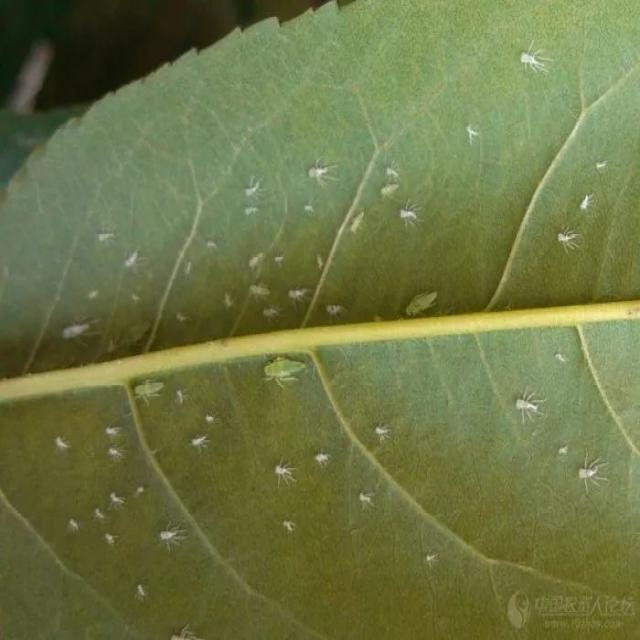Yechan: (394, 279, 452, 322), (261, 352, 310, 394), (132, 379, 170, 405)
